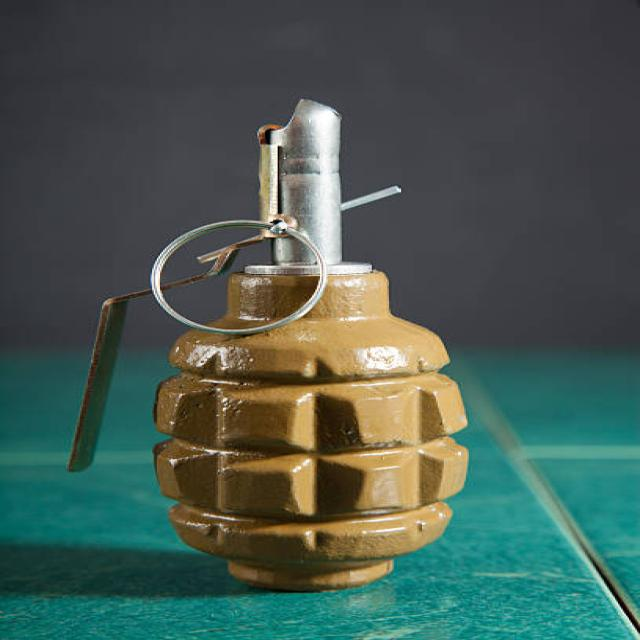grenade: (50, 94, 488, 599)
